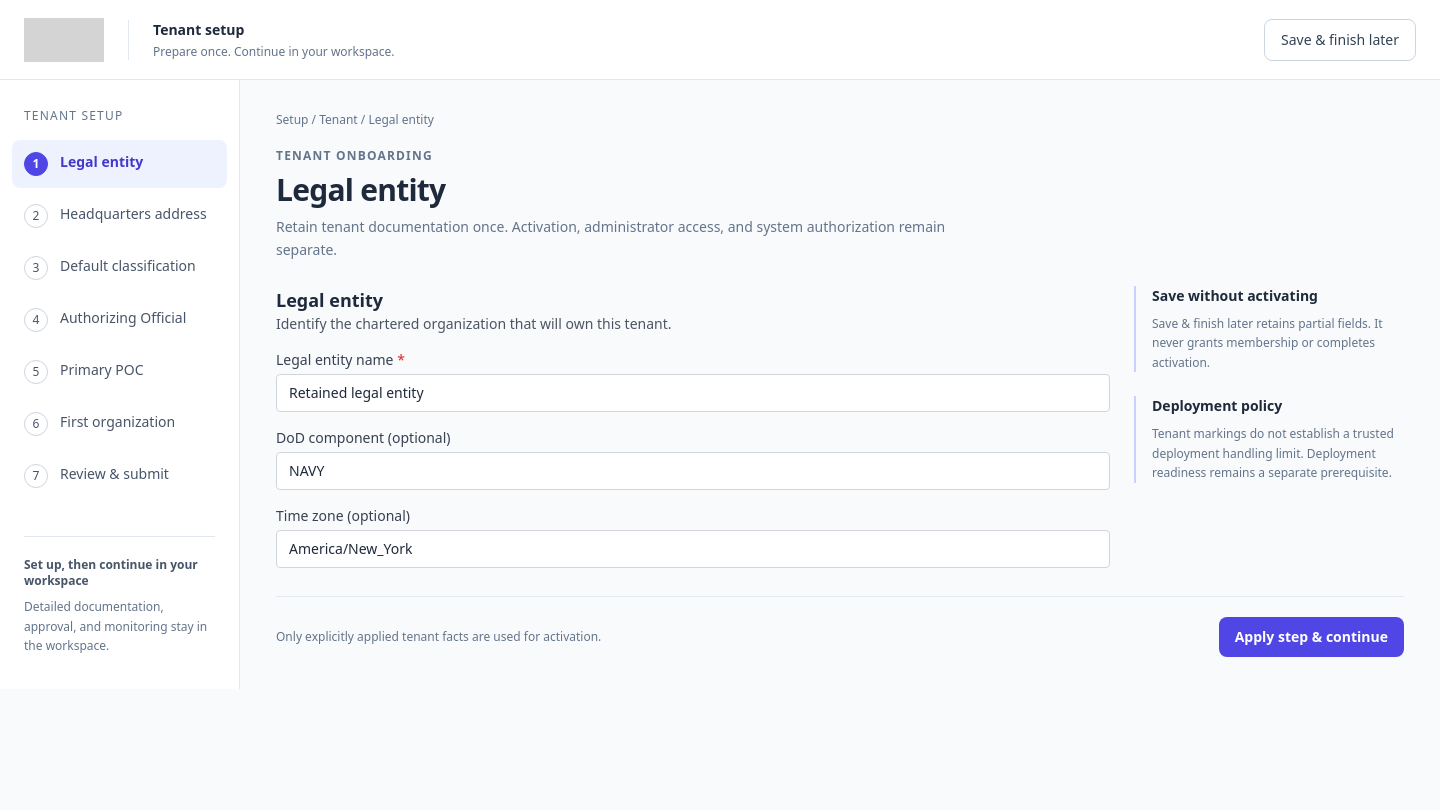
Scenario: tenant activation domain draft › surfaces Default classification submission errors without leaving the step
Check: the field showing "Retained legal entity" is shown, box left=276, top=374, right=1110, bottom=412
What coordinates should you click on to do the following:
click the button "3 Default classification"
I would click on:
 (120, 268)
Its box is left=12, top=244, right=227, bottom=292.
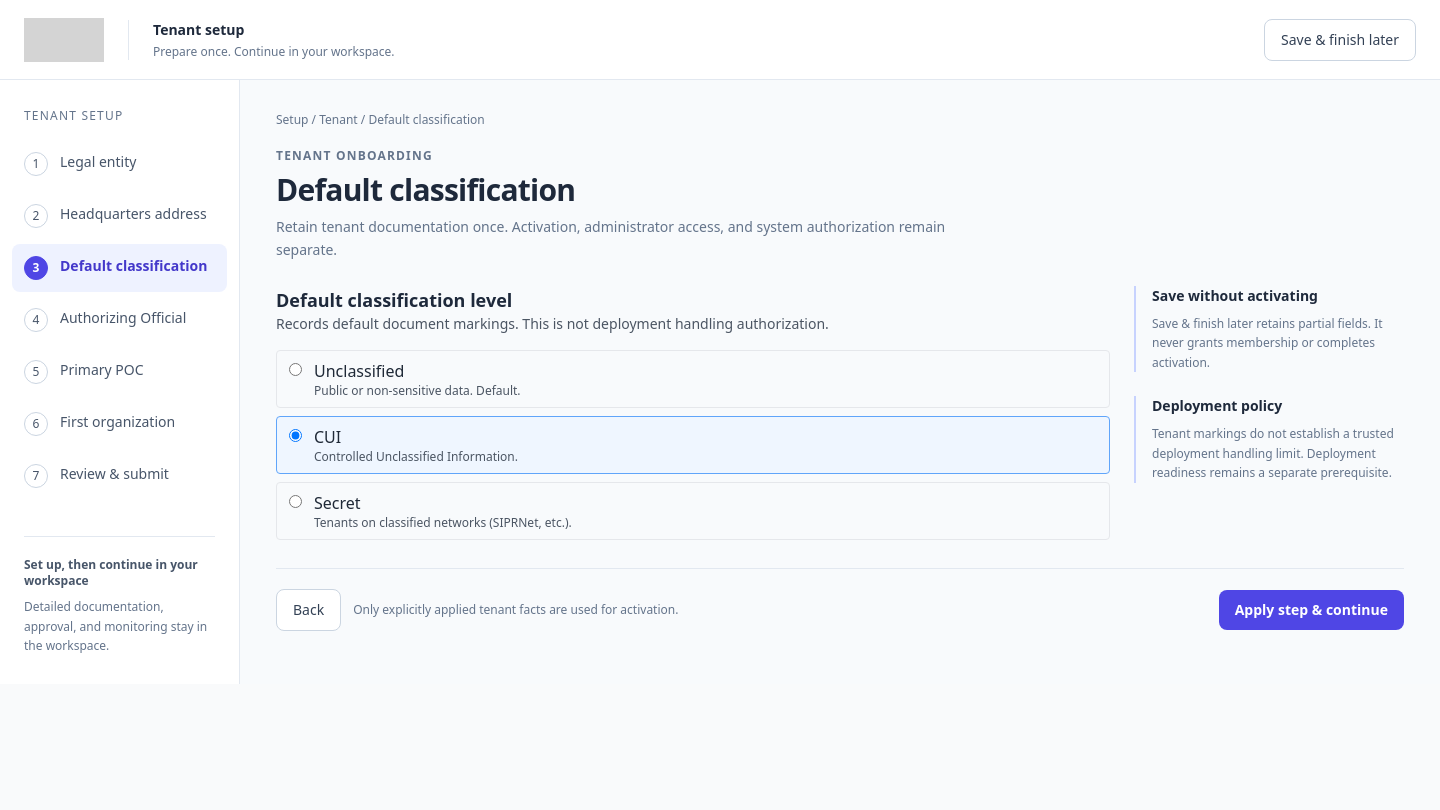
What coordinates should you click on to do the following:
click the button "Apply step & continue"
I would click on:
 (1311, 610)
Its box is left=1219, top=590, right=1404, bottom=630.
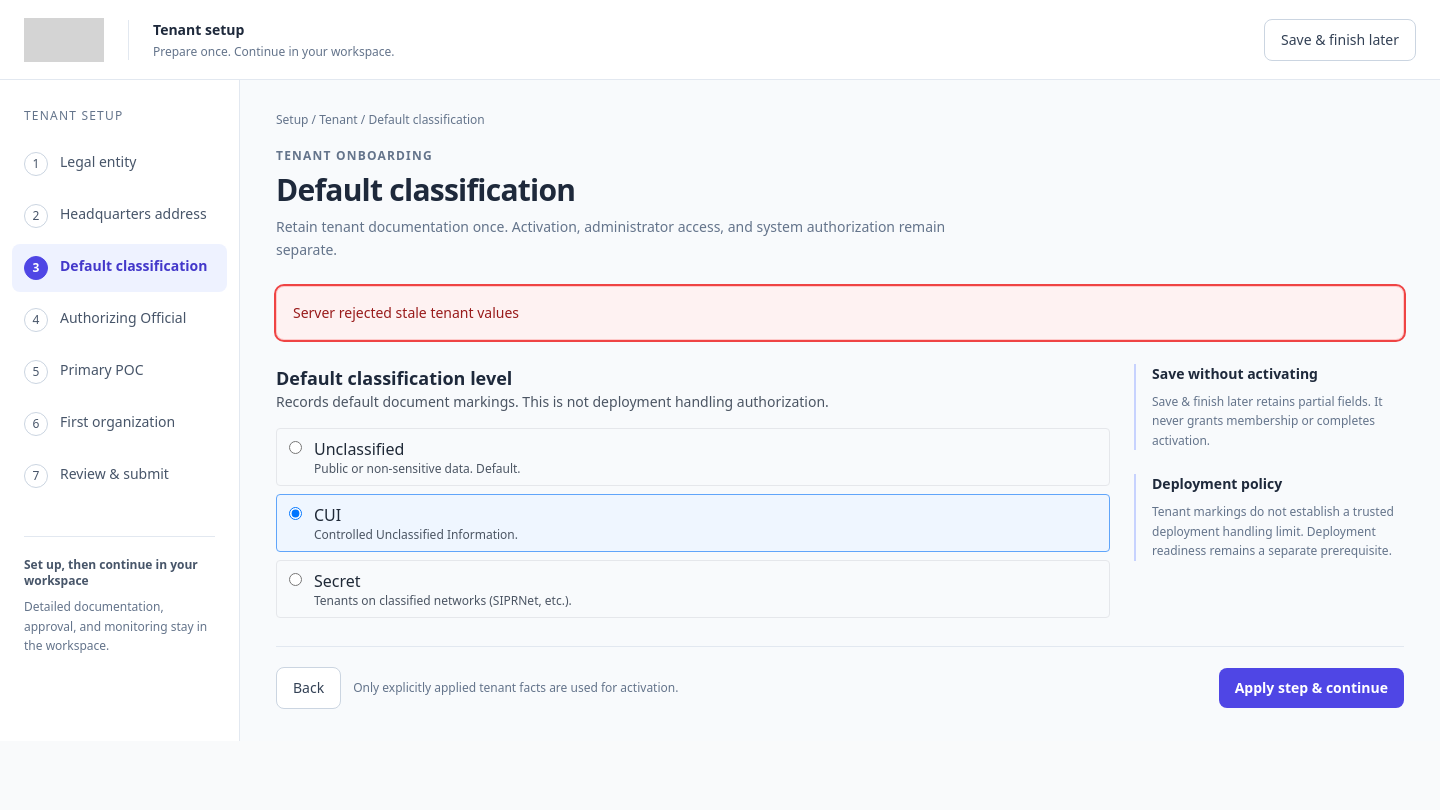
Check: the heading "Default classification" is shown, box left=276, top=169, right=575, bottom=210
Check: the text "Server rejected stale tenant values" is shown, box left=276, top=286, right=1404, bottom=340
